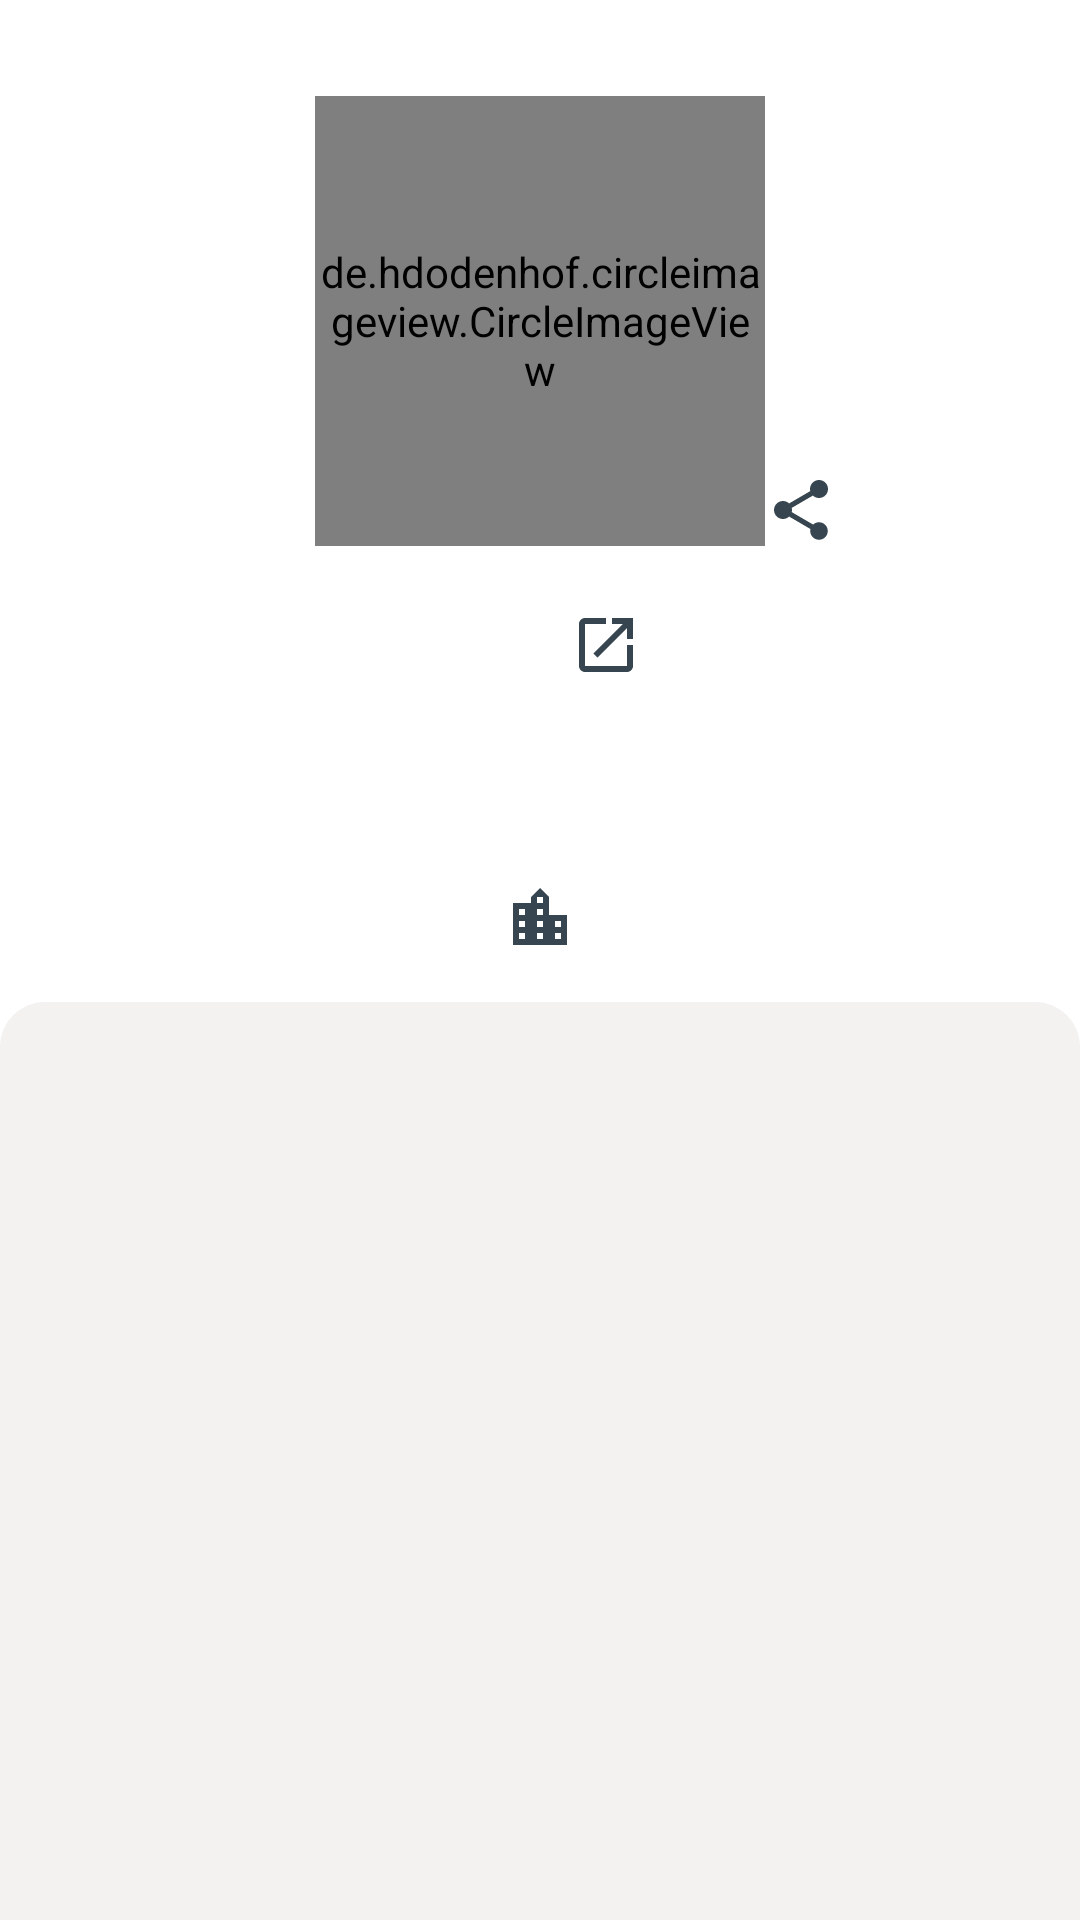

Screen size 1080px×1920px. Icon name, then its center in pixels as (x,y):
open: (606,645)
share: (801,510)
